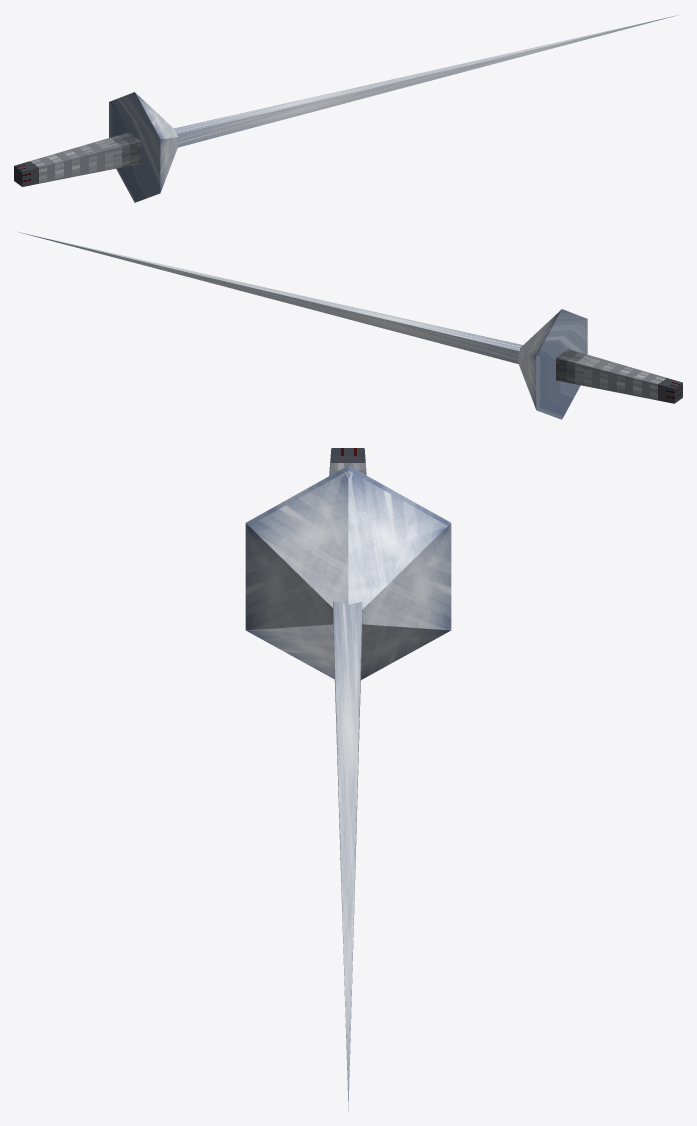
3 views of the same model, one above another, from view 1: azimuth 30°, elevation 25°; view 2: azimuth 150°, elevation 25°; view 3: azimuth 270°, elevation 25° (orthographic). The views are drawn at different scales.
Visible parts, largest first — view 1: IT195_DMSPRITEDEF_node; view 2: IT195_DMSPRITEDEF_node; view 3: IT195_DMSPRITEDEF_node.
Part boxes in pixels (x1,y1,x2,y2): IT195_DMSPRITEDEF_node: (14, 15, 678, 202); IT195_DMSPRITEDEF_node: (18, 232, 682, 419); IT195_DMSPRITEDEF_node: (245, 448, 451, 1111).
Size of the model in its own units: 3.61 by 0.5754 by 0.4834.
Materials: 2 (2 with a texture image).
